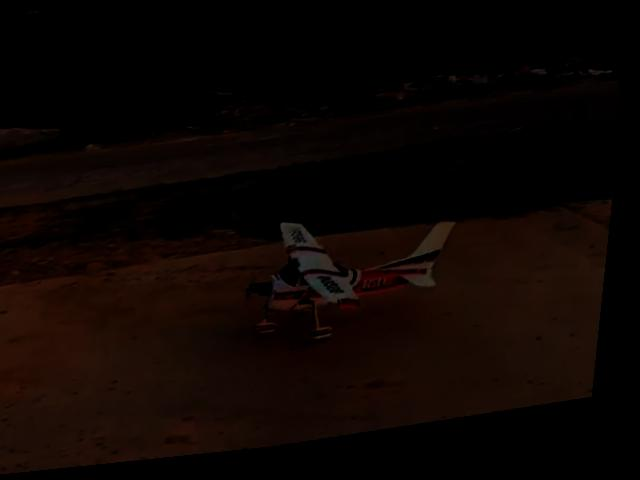plane: (248, 203, 470, 360)
